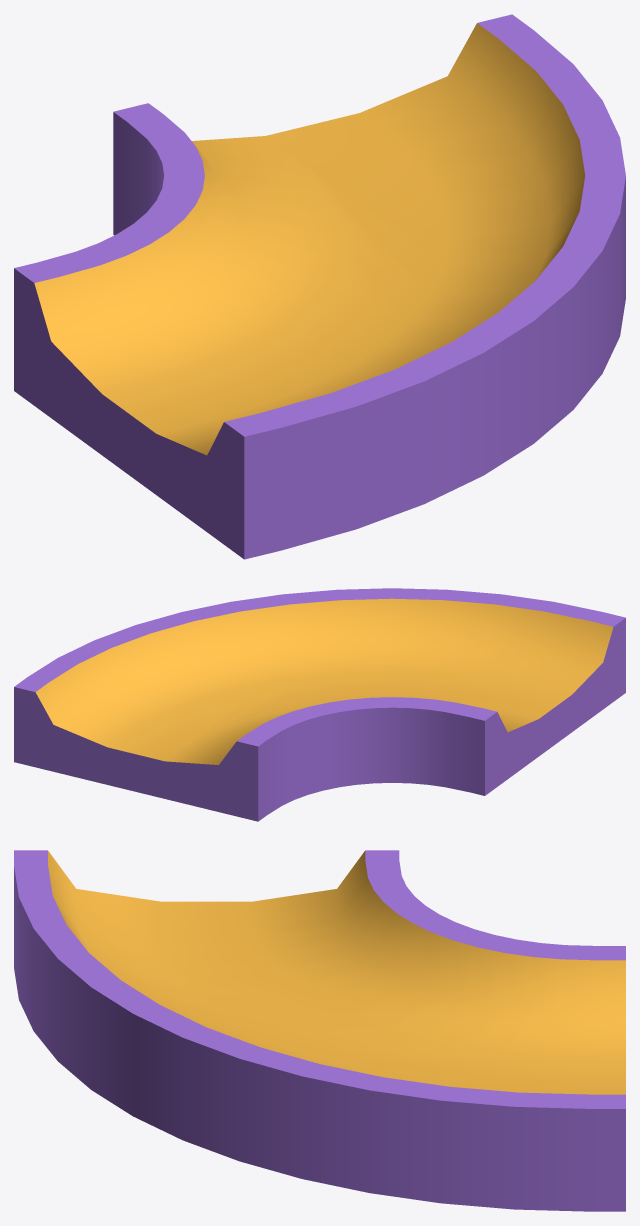
File: curve-wide-medium.glb
3 views of the same model, one above another, from view 1: azimuth 30°, elevation 25°; view 2: azimuth 150°, elevation 25°; view 3: azimuth 270°, elevation 25° (orthographic). The views are drawn at different scales.
Visible parts, largest first — view 1: curve-wide-medium; view 2: curve-wide-medium; view 3: curve-wide-medium.
Boxes of the visible parts, box(x1,y1,x2,y2) form: curve-wide-medium: box(14, 14, 625, 559); curve-wide-medium: box(14, 588, 625, 821); curve-wide-medium: box(14, 850, 625, 1211).
Bounding box in the file's own units: 2.7 × 0.5 × 2.7.
Materials: 1 (1 with a texture image).
